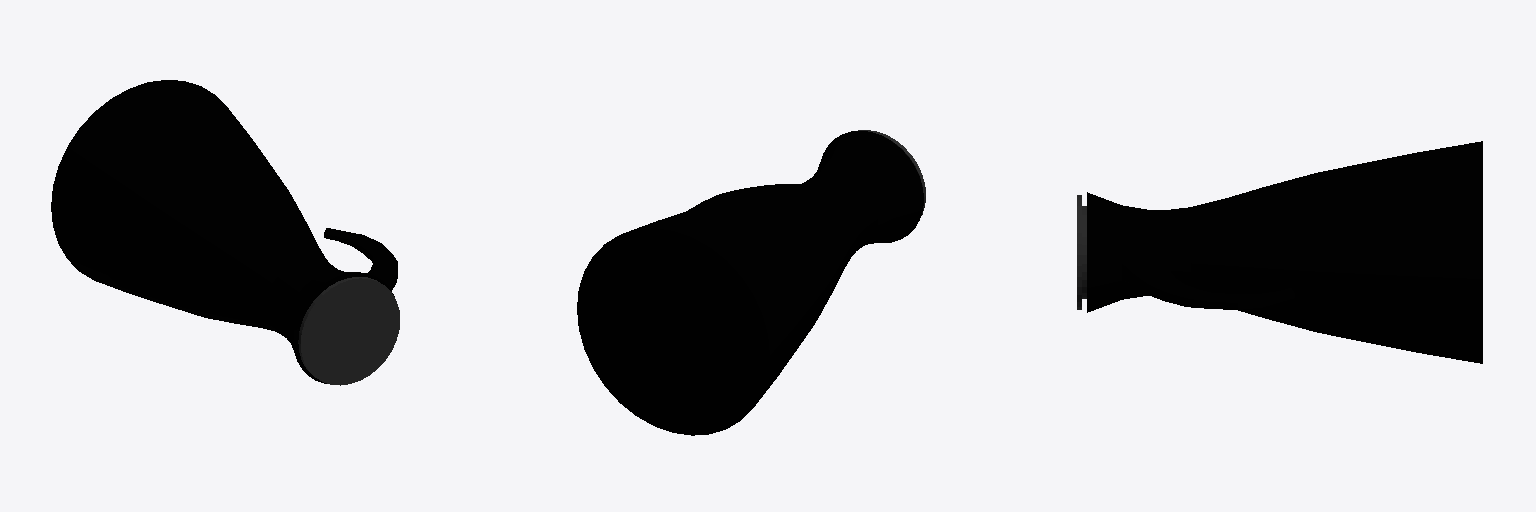
Rendered from coffecan.obj.
The picture shows the model from 3 angles: view 1: azimuth 30°, elevation 25°; view 2: azimuth 150°, elevation 25°; view 3: azimuth 270°, elevation 25°; orthographic projection.
Parts seen in each view (by area): view 1: coffecan_Cylinder.004; view 2: coffecan_Cylinder.004; view 3: coffecan_Cylinder.004.
Part boxes in pixels (left/top/right/bottom): coffecan_Cylinder.004: left=51, top=80, right=399, bottom=385; coffecan_Cylinder.004: left=577, top=130, right=925, bottom=435; coffecan_Cylinder.004: left=1077, top=141, right=1482, bottom=363.
Size of the model in its own units: 0.1385 by 0.1292 by 0.2351.